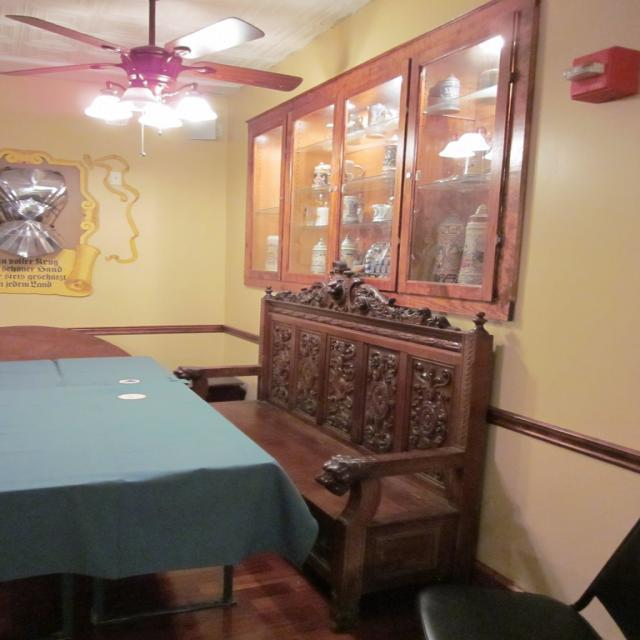fan_off: (4, 6, 302, 96)
